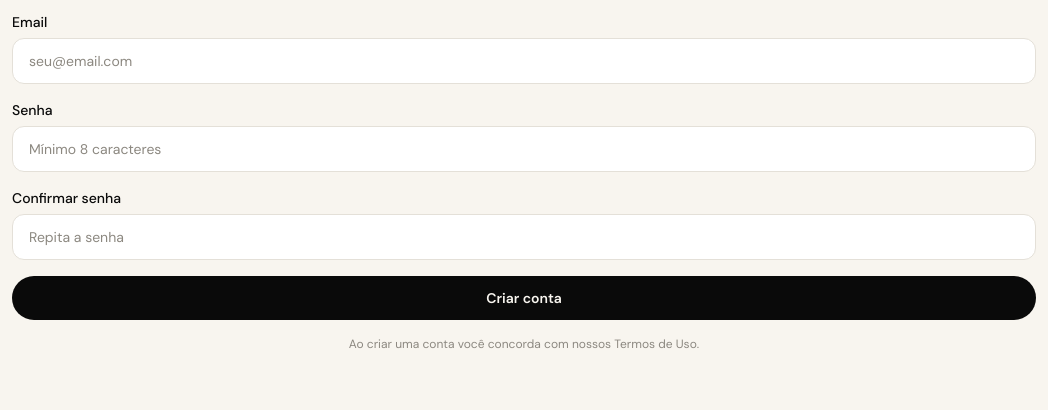
Test case: SignupForm › shows validation error when password is shorter than 8 characters
Type "test@example.com" into the field labelled "Email". click: (524, 61)
box: [12,38,1036,84]
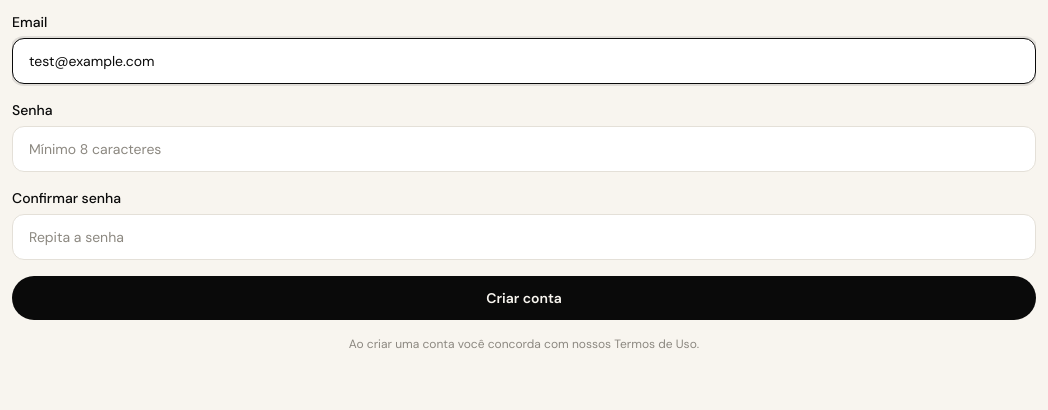
Type "short" into the password field labelled "Senha". click: (524, 149)
box: [12,126,1036,172]
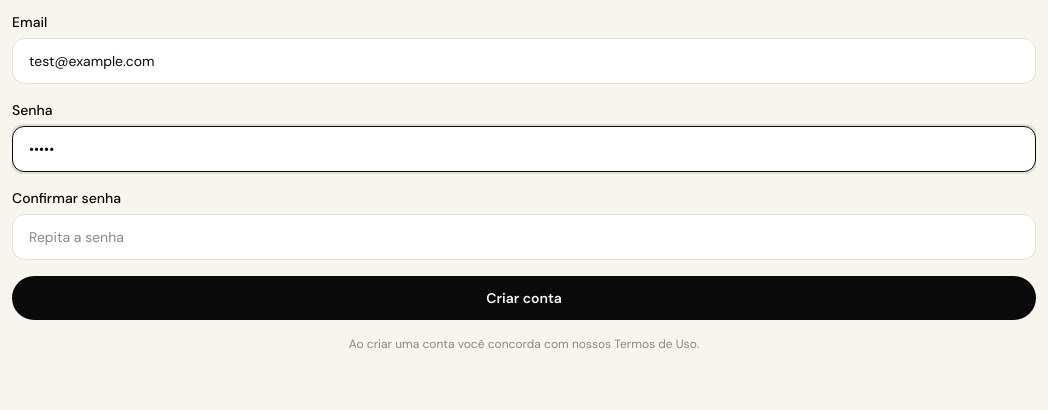
Click the button "Criar conta". click: (524, 298)
box: [12,276,1036,320]
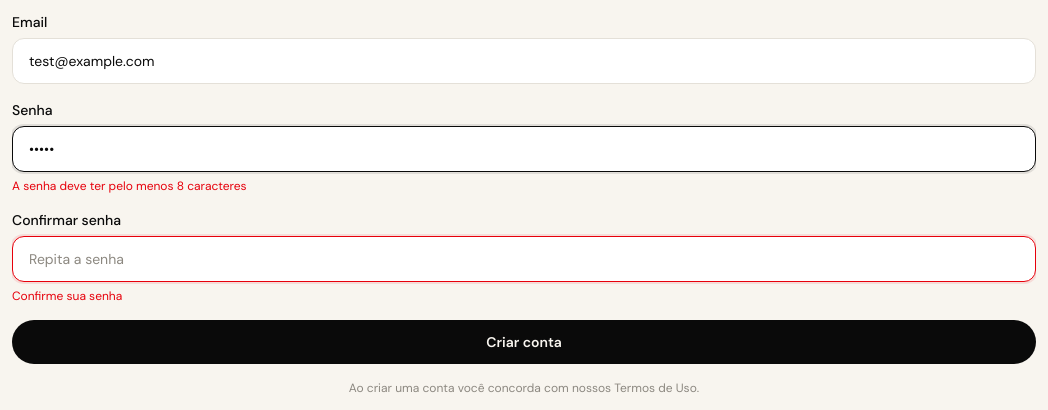
Now the text "A senha deve ter pelo menos 8 caracteres" is shown, box [12,178,247,194]
